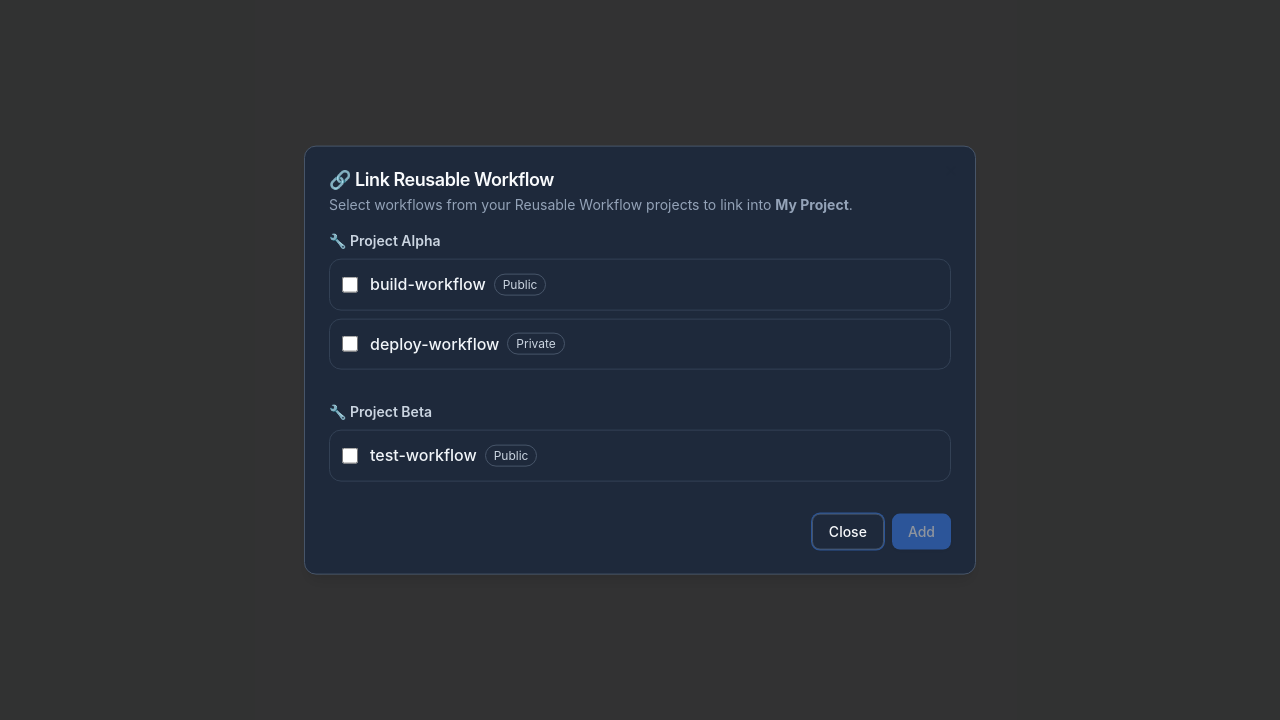
Test case: LinkedWorkflowsModal › selecting a workflow enables the Add button with count
Expected: the text "build-workflow" is shown, 370,272 -> 486,297
Click the checkbox labelled "build-workflow Public".
click(350, 284)  # box 342,276 -> 358,292
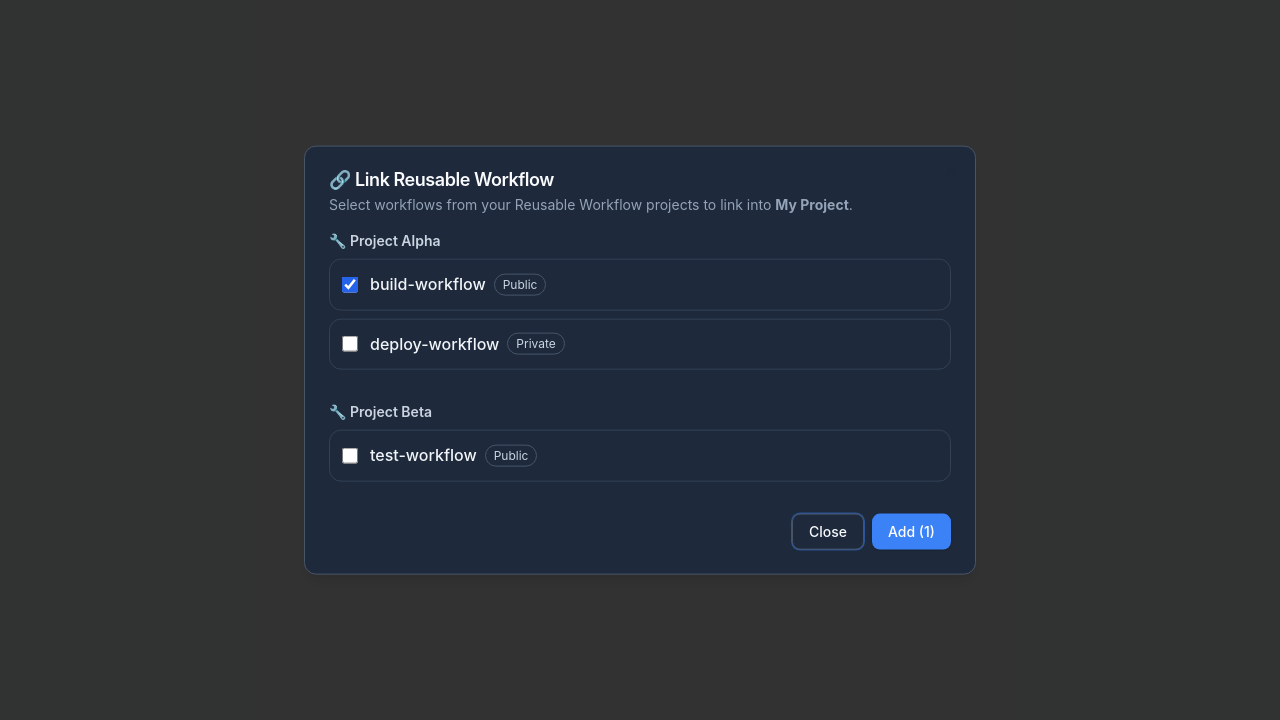
Expected: the button "Add (1)" is enabled, 872,513 -> 951,549
